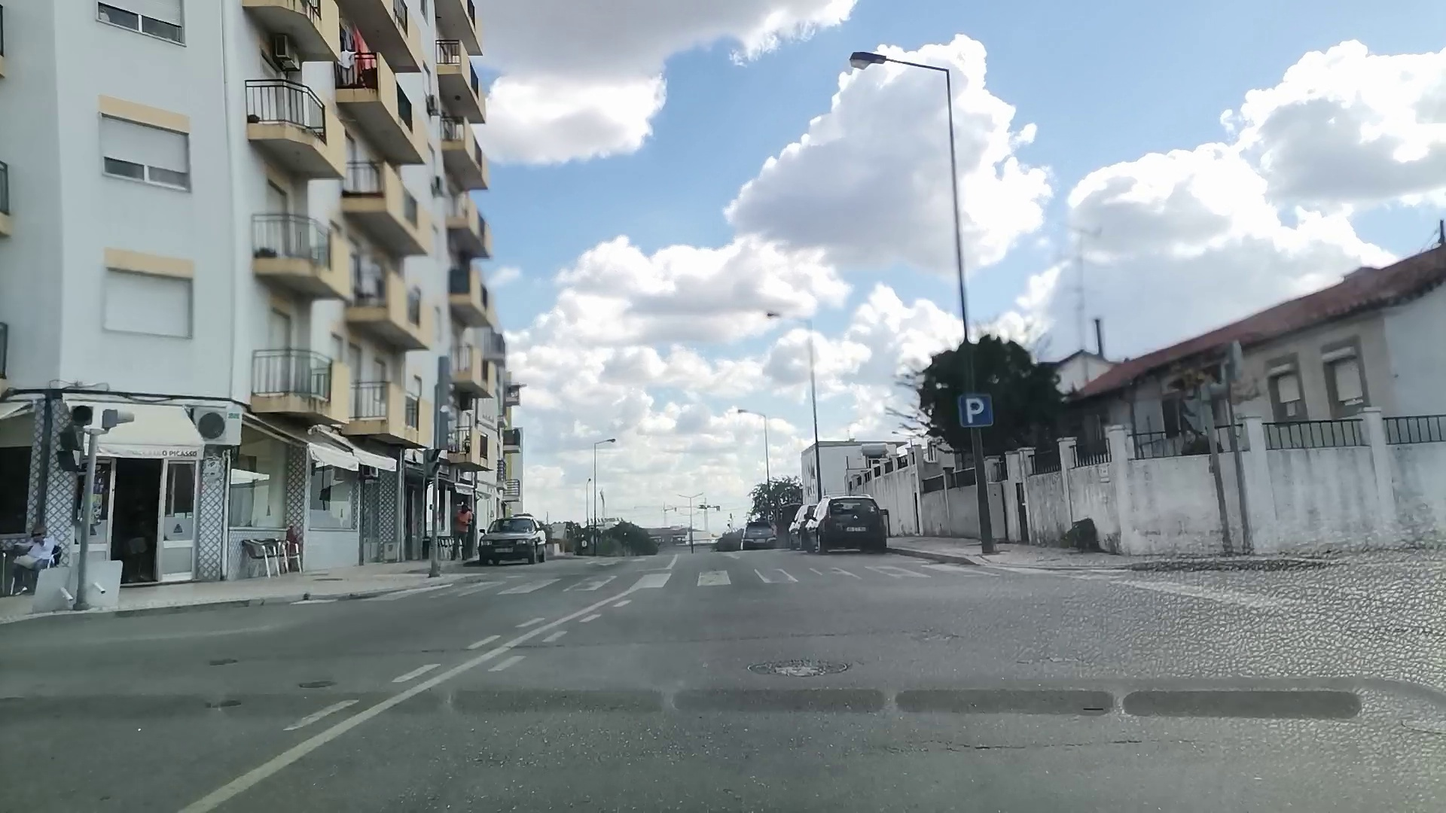Stairs: (379, 561, 988, 598)
